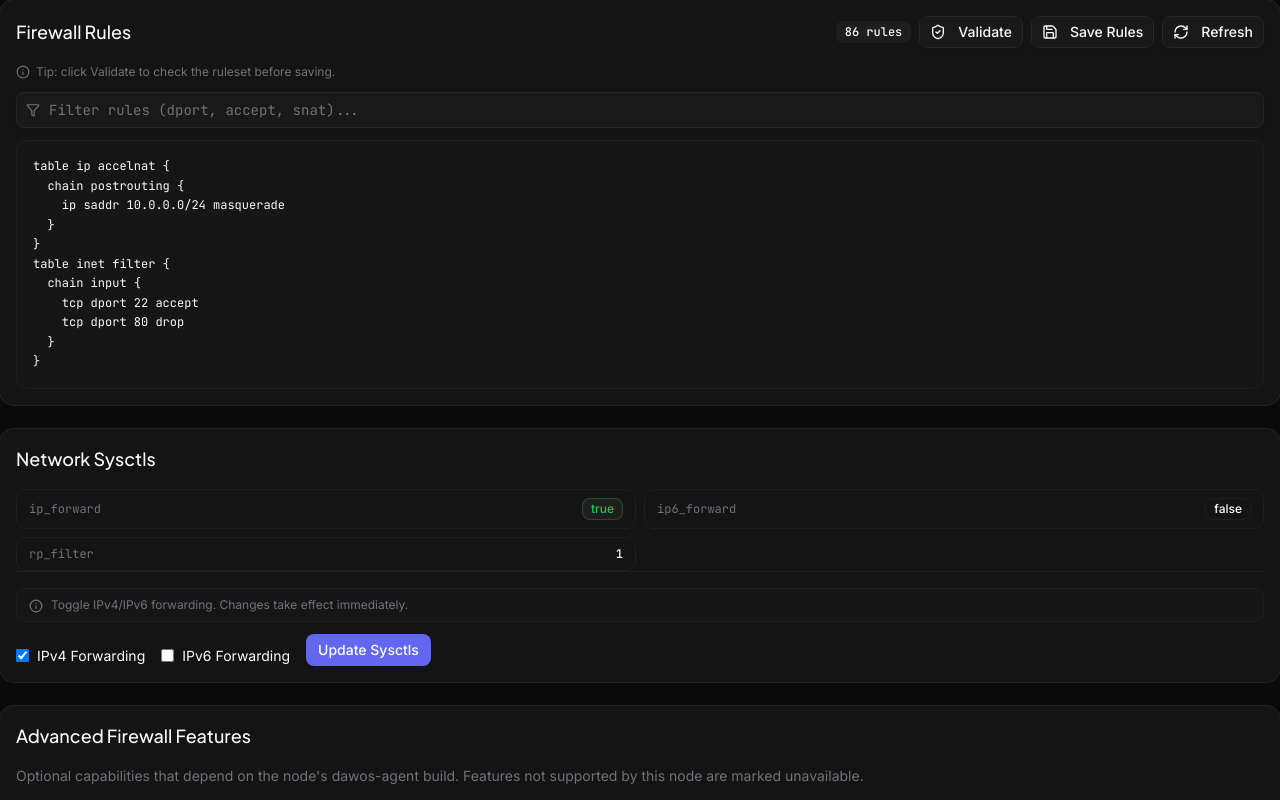
Test case: FirewallPage › filters ruleset lines with highlight and a filtered count
Type "accept" into the field with placeholder "Filter rules (dport, accept, snat)...". click: (640, 110)
box: 16,92 -> 1264,128
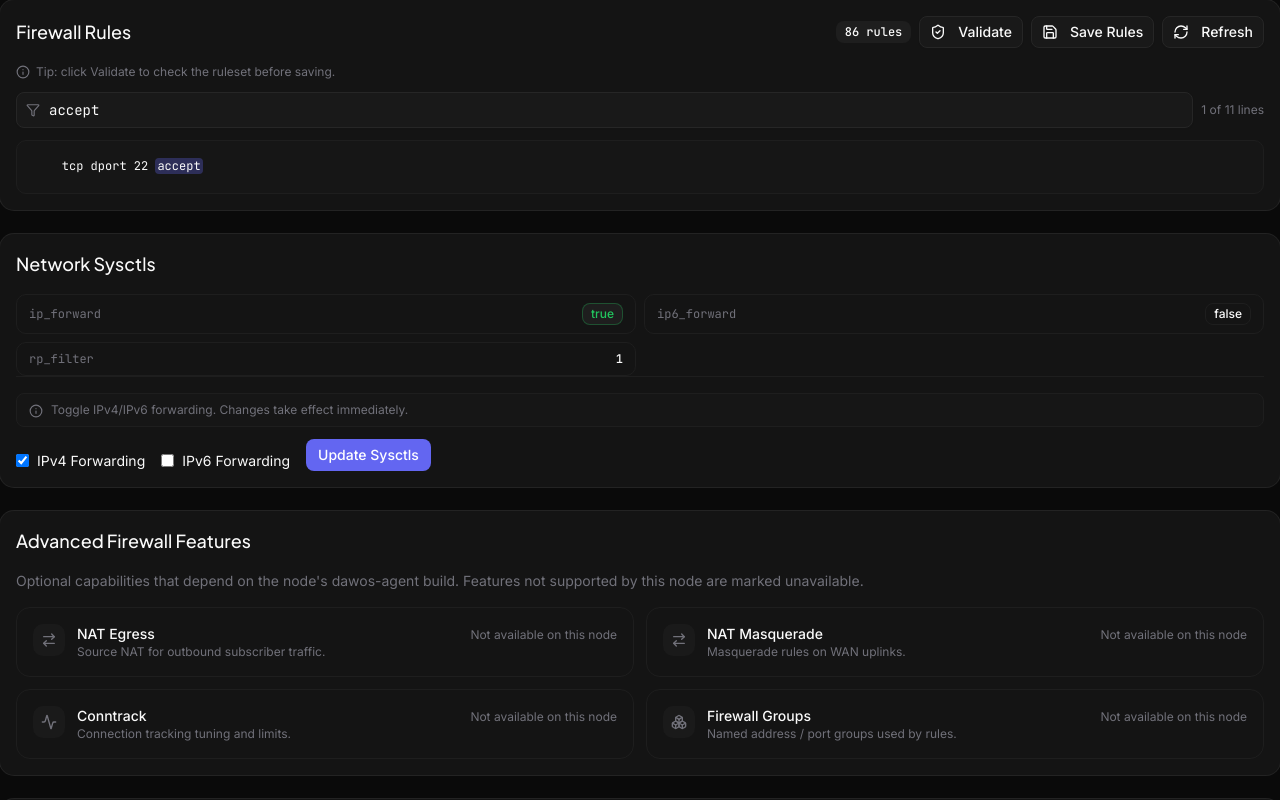
Expected: the text "accept" is shown, 155,158 -> 203,174
Expected: the text "dport 80 drop" is gone
Expected: the text "1 of 11 lines" is shown, 1201,102 -> 1264,118
